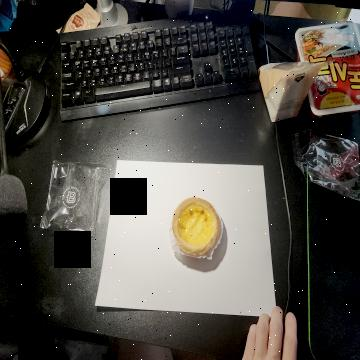EggTart: (170, 196, 221, 257)
